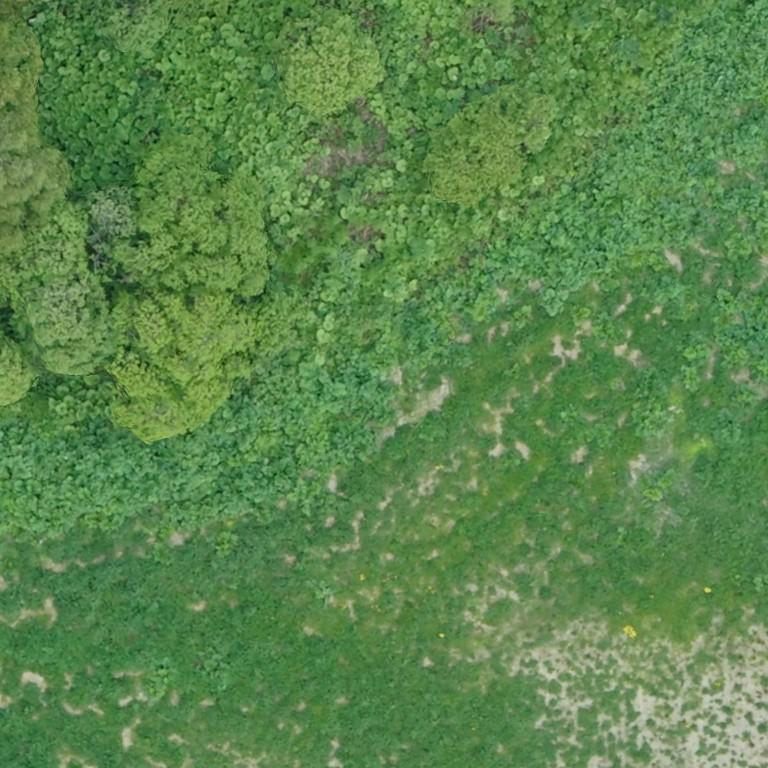hogweed: (360, 0, 767, 385), (0, 348, 388, 532), (715, 280, 767, 383), (634, 370, 667, 430), (711, 408, 741, 448), (199, 649, 227, 690)
